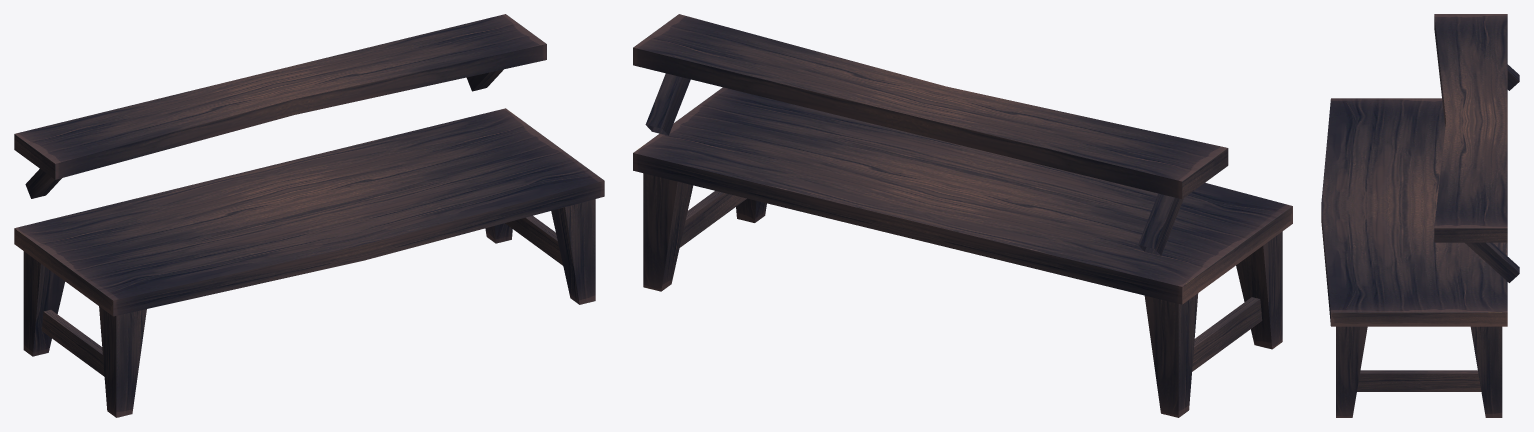
File: Counter_E.fbx
3 renders of one model, left to right at view 1: azimuth 30°, elevation 25°; view 2: azimuth 150°, elevation 25°; view 3: azimuth 270°, elevation 25°, orthographic. The views are drawn at different scales.
Visible parts, largest first — view 1: Counter_E; view 2: Counter_E; view 3: Counter_E.
Boxes of the visible parts, <box> form: Counter_E: <box>14,14,604,417</box>; Counter_E: <box>633,14,1292,417</box>; Counter_E: <box>1321,14,1519,417</box>.
Size of the model in its own units: 0.9399 by 0.3934 by 0.3681.
